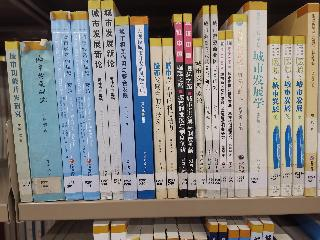book-spine: (18, 38, 68, 202), (49, 11, 83, 200), (68, 11, 100, 201), (127, 15, 157, 201), (3, 40, 36, 202), (87, 0, 113, 201), (100, 0, 123, 200), (114, 16, 138, 200), (247, 3, 268, 198), (160, 38, 180, 199), (303, 3, 319, 196), (148, 38, 167, 200), (173, 13, 189, 199), (181, 13, 197, 199), (233, 13, 249, 197), (266, 36, 284, 197), (278, 34, 295, 197), (290, 35, 306, 197), (202, 6, 214, 198), (210, 7, 221, 198), (194, 39, 207, 198), (216, 30, 228, 199), (223, 30, 235, 198)
